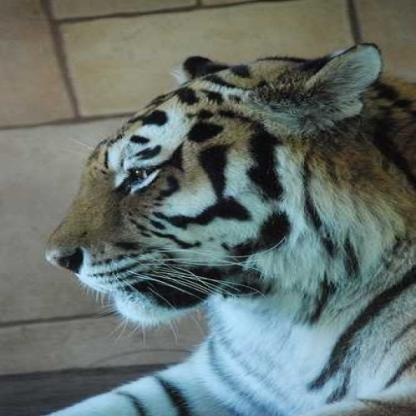Tiger: (27, 35, 415, 415)
